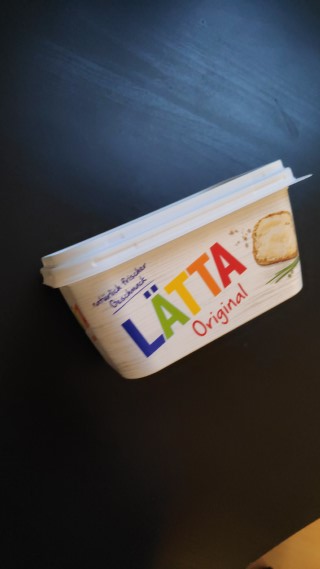laetta: (38, 157, 313, 379)
